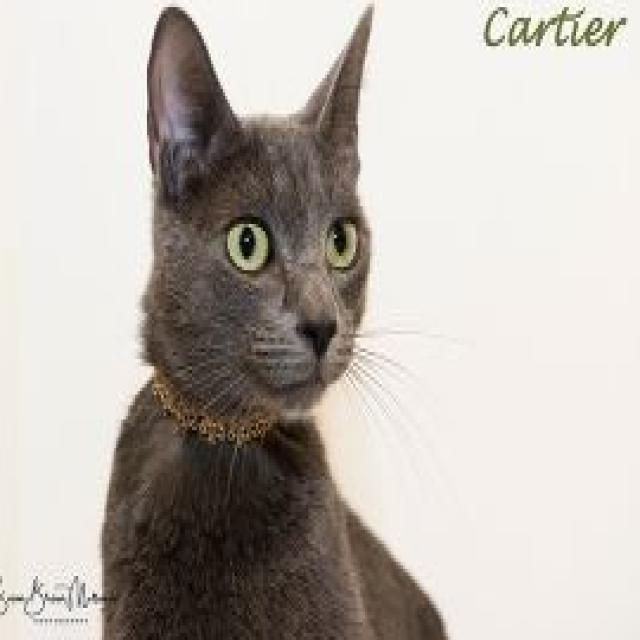Russian Blue: (98, 0, 470, 640)
